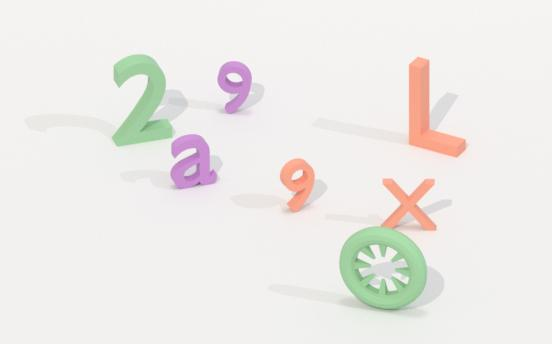2: (109, 51, 174, 150)
9: (216, 57, 255, 118), (279, 156, 317, 218)
a: (166, 131, 222, 194)
l: (403, 53, 470, 160)
tron: (337, 222, 430, 314)
x: (382, 175, 442, 235)
